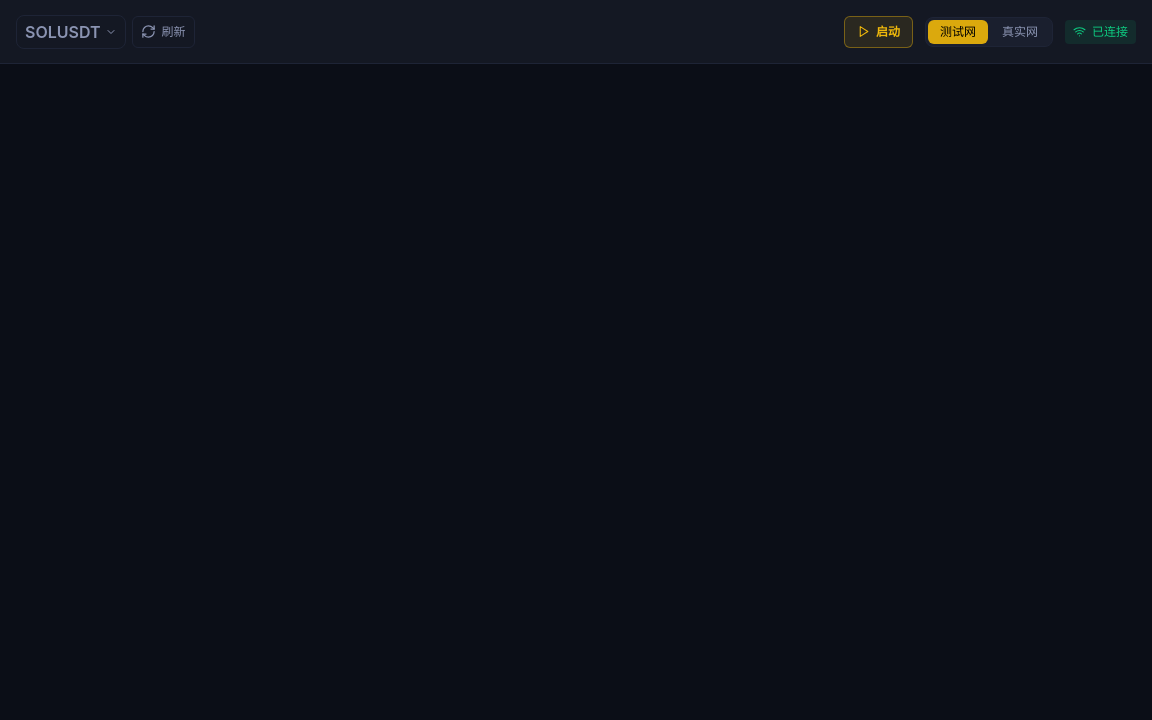
Header network controls › confirms symbol, network and capital before starting on testnet
Click the button with aria-label "启动策略". click: (878, 32)
box: [844, 16, 913, 48]
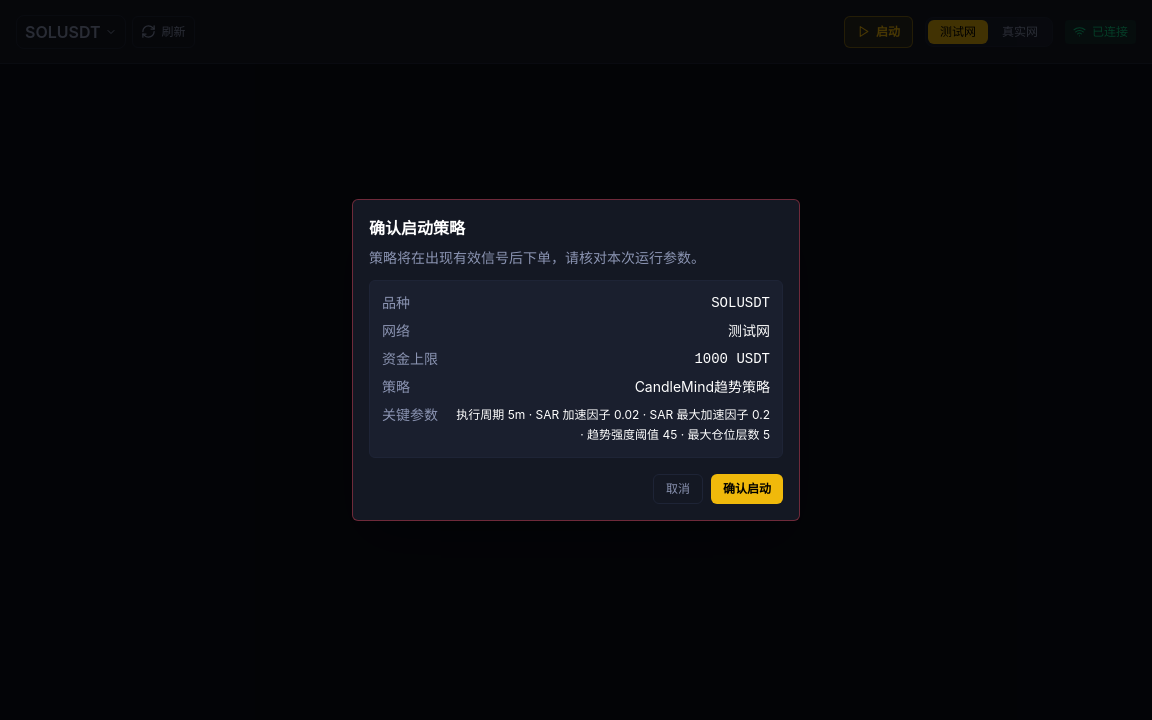
expect the dialog shows "SOLUSDT": met, box [711, 295, 770, 311]
expect the dialog shows "测试网": met, box [728, 322, 770, 339]
expect the dialog shows "1000 USDT": met
Click the button "确认启动". click: (747, 489)
box: [711, 474, 783, 504]
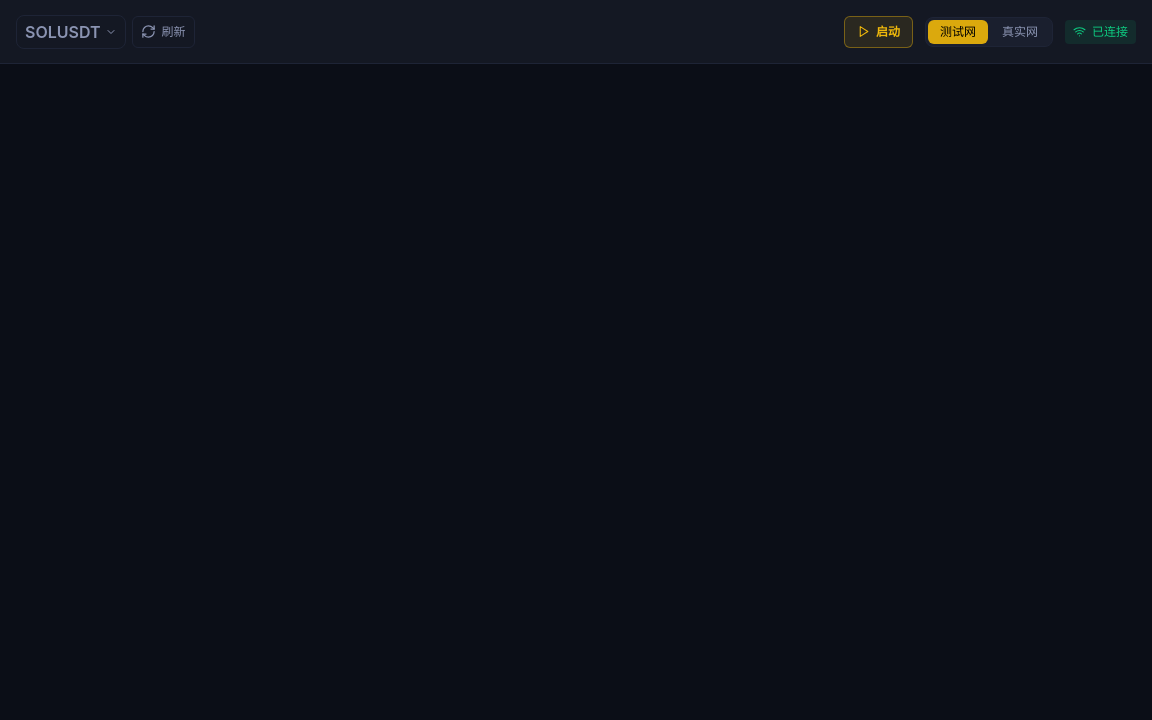
expect the dialog is gone: met
